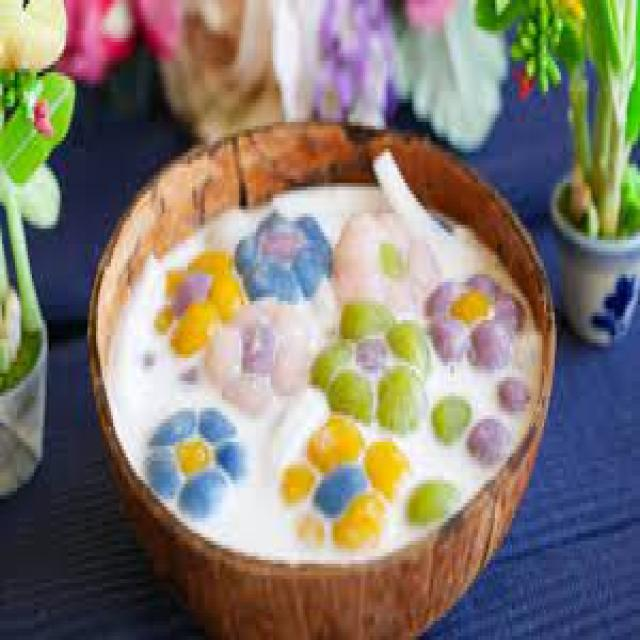Bualoy: (88, 114, 563, 640)
